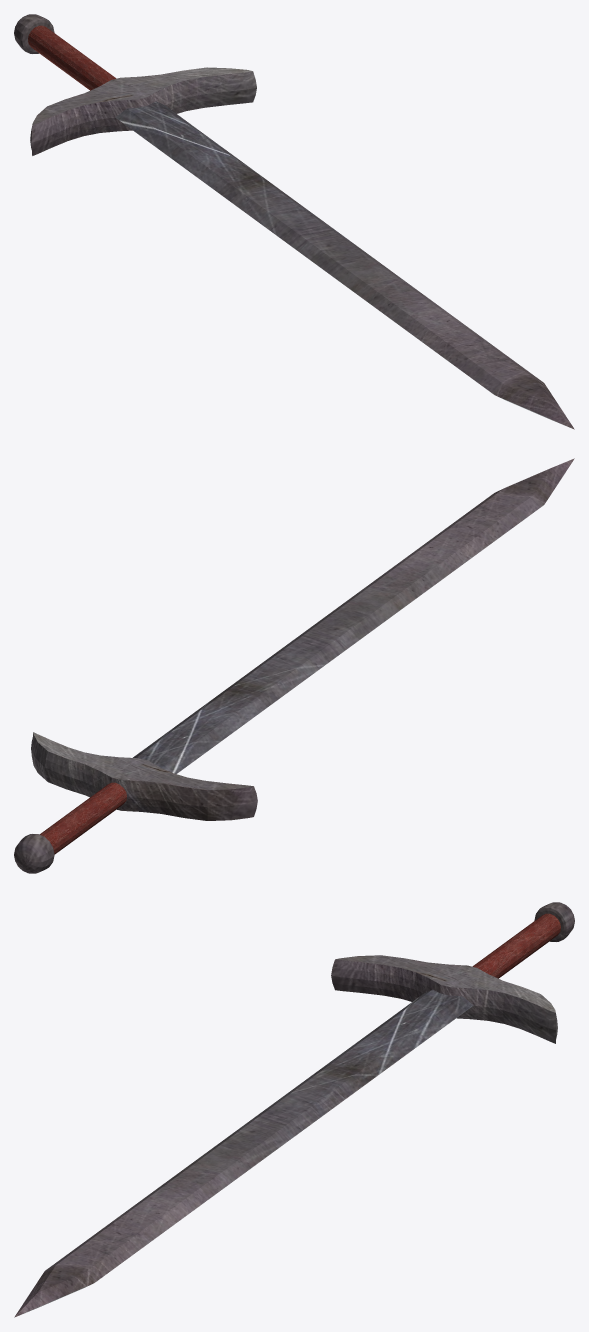
Rendered from sword2.fbx.
3 renders of one model, top to bottom at view 1: azimuth 30°, elevation 25°; view 2: azimuth 150°, elevation 25°; view 3: azimuth 330°, elevation 25°, orthographic.
Visible parts, largest first — view 1: Sword.LoPoly; view 2: Sword.LoPoly; view 3: Sword.LoPoly.
Part boxes in pixels (left/top/right/bottom): Sword.LoPoly: left=14, top=14, right=574, bottom=429; Sword.LoPoly: left=14, top=458, right=574, bottom=873; Sword.LoPoly: left=14, top=902, right=574, bottom=1317.
Bounding box in the file's own units: 2.72 × 0.4103 × 11.5.
